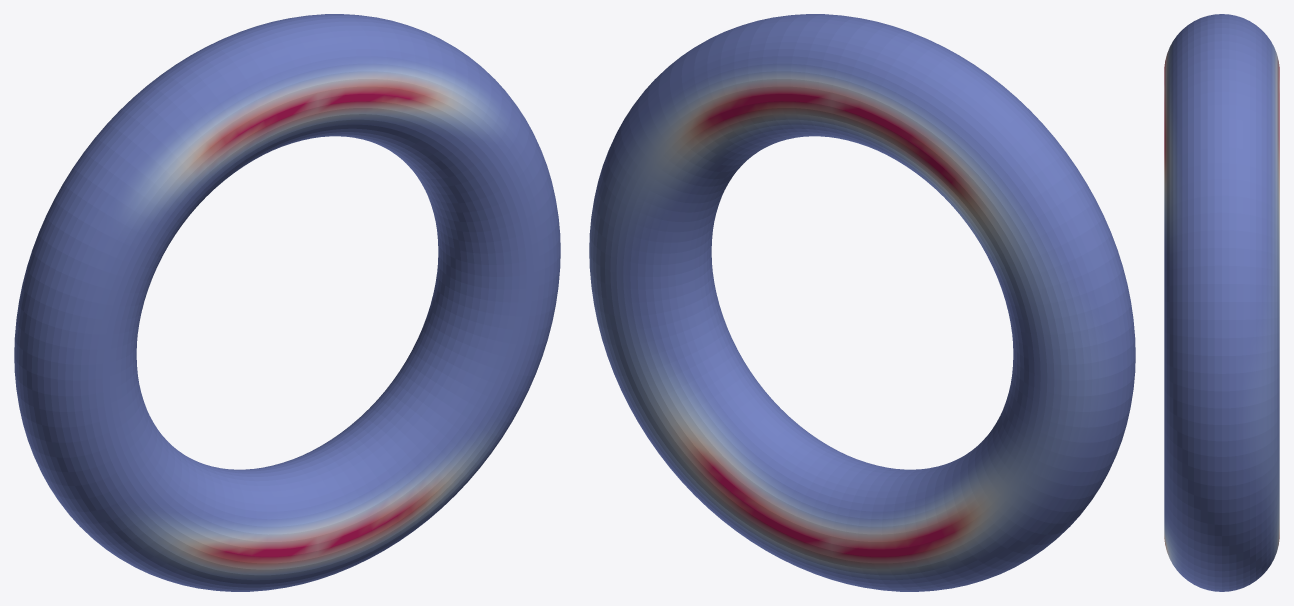
3 views of the same model, side by side, from view 1: azimuth 30°, elevation 25°; view 2: azimuth 150°, elevation 25°; view 3: azimuth 270°, elevation 25° (orthographic). The views are drawn at different scales.
Parts seen in each view (by area): view 1: world; view 2: world; view 3: world.
Part boxes in pixels (left/top/right/bottom): world: left=14, top=14, right=560, bottom=591; world: left=589, top=14, right=1135, bottom=591; world: left=1164, top=14, right=1279, bottom=591.
Bounding box in the file's own units: 16.67 × 16.67 × 3.33.
